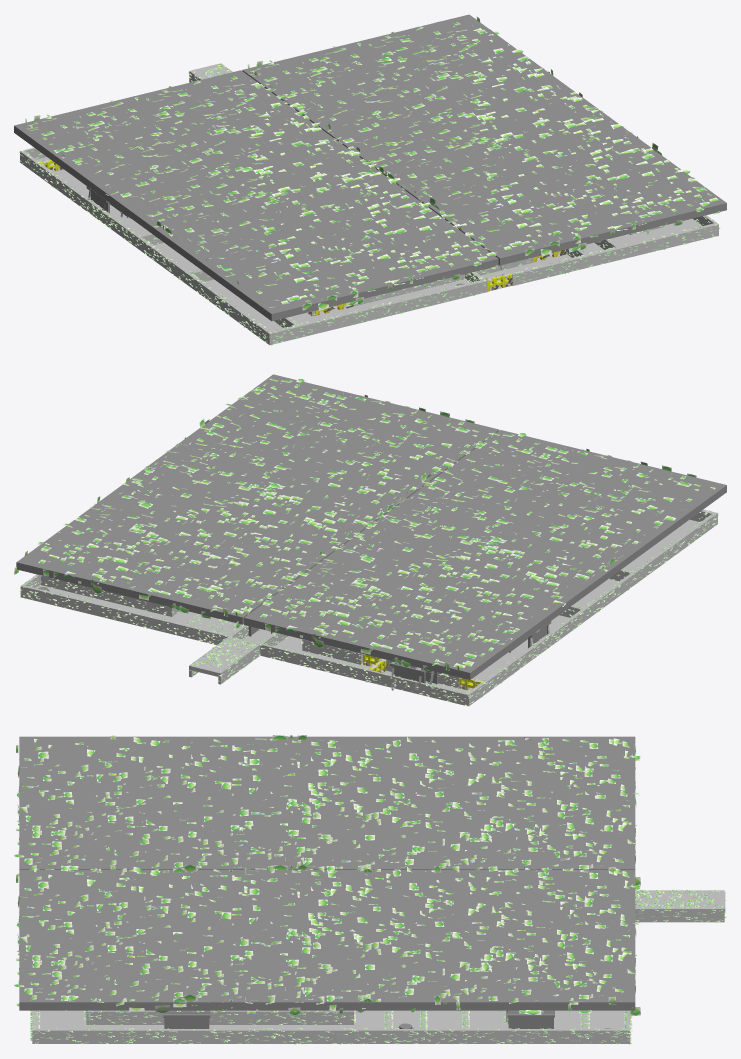
File: MazePuzzle.fbx
3 views of the same model, one above another, from view 1: azimuth 30°, elevation 25°; view 2: azimuth 150°, elevation 25°; view 3: azimuth 270°, elevation 25° (orthographic). The views are drawn at different scales.
Parts seen in each view (by area): view 1: Object011, Object012, MazePlane, Maze_Wall006, MazeWallLeaf, Maze_Wall016, Maze_Wall014, Maze_Wall042; view 2: Object011, Object012, MazeWallLeaf, MazePlane, Maze_Wall006, Maze_Wall000, Maze_Wall001, Maze_Wall013, Maze_Wall072, Maze_Wall007, Maze_Wall026, Maze_Wall010 (+1 smaller); view 3: Object012, Object011, Maze_Wall003, MazePlane, MazeWallLeaf, Maze_Wall002, Maze_Wall005, Maze_Wall072, Rectangle009, Rectangle007.
Part boxes in pixels (x1=…): Object011: x1=14, y1=70, x2=498, y2=324; Object012: x1=242, y1=14, x2=726, y2=269; MazePlane: x1=36, y1=157, x2=702, y2=331; Maze_Wall006: x1=20, y1=150, x2=272, y2=344; MazeWallLeaf: x1=19, y1=64, x2=720, y2=345; Maze_Wall016: x1=271, y1=279, x2=487, y2=344; Maze_Wall014: x1=510, y1=223, x2=718, y2=285; Maze_Wall042: x1=353, y1=257, x2=533, y2=306; Object011: x1=236, y1=430, x2=726, y2=679; Object012: x1=14, y1=374, x2=499, y2=624; MazeWallLeaf: x1=19, y1=510, x2=718, y2=706; MazePlane: x1=36, y1=519, x2=699, y2=706; Maze_Wall006: x1=465, y1=512, x2=717, y2=705; Maze_Wall000: x1=23, y1=586, x2=232, y2=644; Maze_Wall001: x1=260, y1=644, x2=465, y2=705; Maze_Wall013: x1=41, y1=576, x2=173, y2=616; Maze_Wall072: x1=191, y1=637, x2=257, y2=676; Maze_Wall007: x1=185, y1=614, x2=248, y2=639; Maze_Wall026: x1=302, y1=639, x2=362, y2=664; Maze_Wall010: x1=218, y1=643, x2=261, y2=684; Object012: x1=14, y1=865, x2=640, y2=1015; Object011: x1=14, y1=735, x2=640, y2=885; Maze_Wall003: x1=38, y1=1029, x2=630, y2=1043; MazePlane: x1=38, y1=1010, x2=626, y2=1028; MazeWallLeaf: x1=30, y1=889, x2=726, y2=1044; Maze_Wall002: x1=90, y1=1010, x2=353, y2=1024; Maze_Wall005: x1=635, y1=907, x2=724, y2=922; Maze_Wall072: x1=635, y1=892, x2=725, y2=911; Rectangle009: x1=163, y1=1010, x2=210, y2=1028; Rectangle007: x1=507, y1=1010, x2=554, y2=1028.
Size of the model in its own units: 674 by 68.36 by 753.
